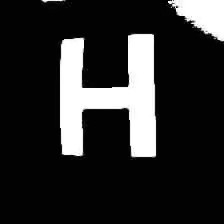LTR_H: (42, 21, 161, 163)
